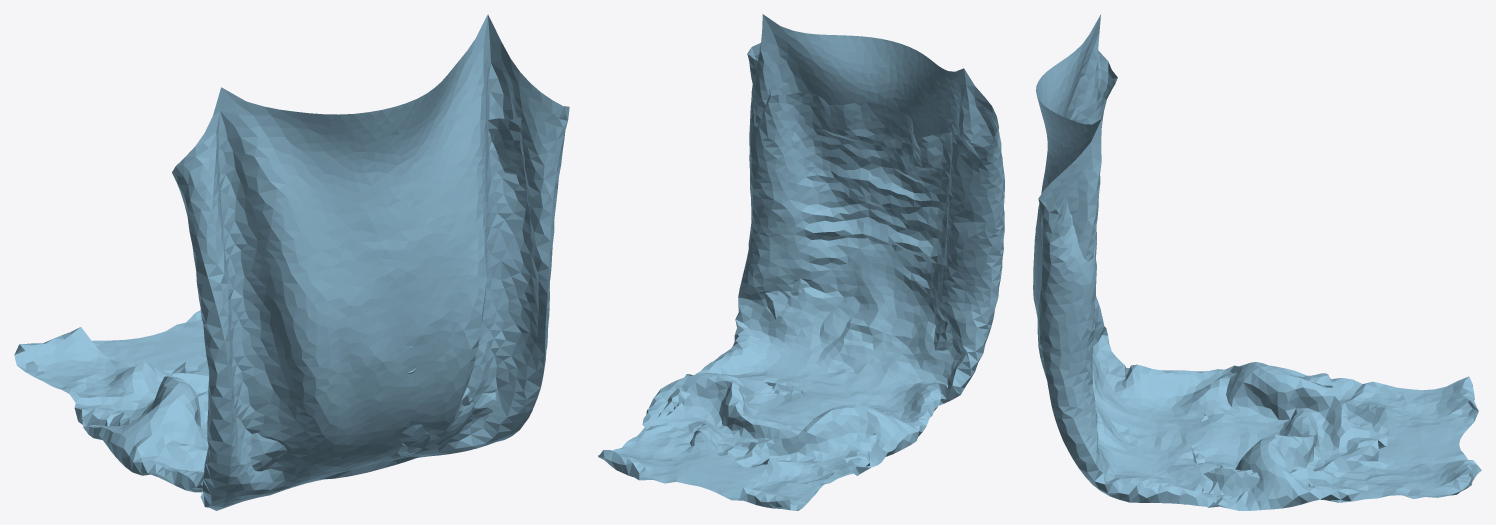
The model's file is frame_10.glb.
3 views of the same model, side by side, from view 1: azimuth 30°, elevation 25°; view 2: azimuth 150°, elevation 25°; view 3: azimuth 270°, elevation 25° (orthographic). The views are drawn at different scales.
Parts seen in each view (by area): view 1: frame_10.obj; view 2: frame_10.obj; view 3: frame_10.obj.
Part boxes in pixels (x1=…): frame_10.obj: x1=14, y1=14, x2=569, y2=510; frame_10.obj: x1=598, y1=14, x2=1004, y2=510; frame_10.obj: x1=1033, y1=14, x2=1481, y2=510.
Size of the model in its own units: 0.9018 by 1.07 by 1.14.
